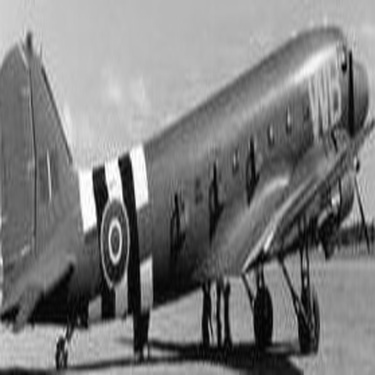airplane: (3, 1, 372, 372)
